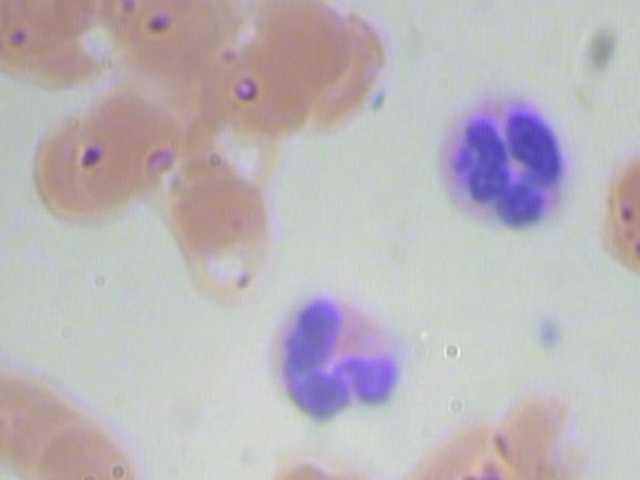Platelets: (526, 314, 571, 361)
RBC: (167, 171, 279, 303), (22, 107, 134, 239), (253, 0, 356, 84), (594, 135, 640, 285), (5, 0, 110, 37)
WBC: (427, 82, 575, 227), (262, 287, 410, 431)
